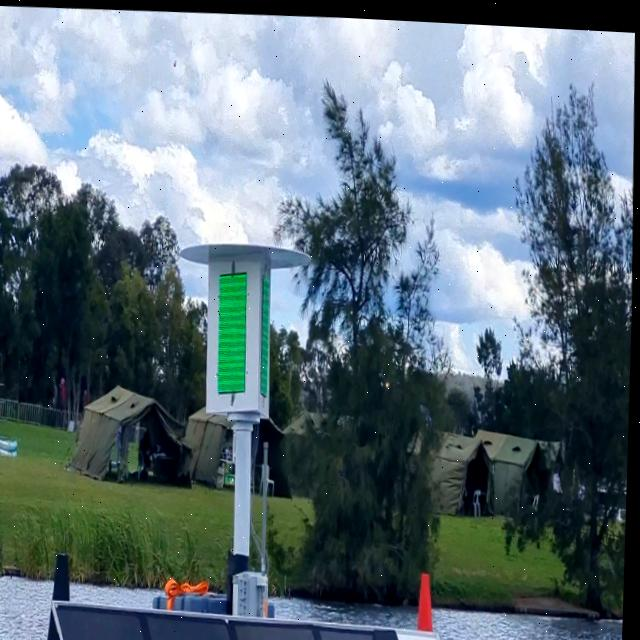led: (210, 257, 260, 401)
